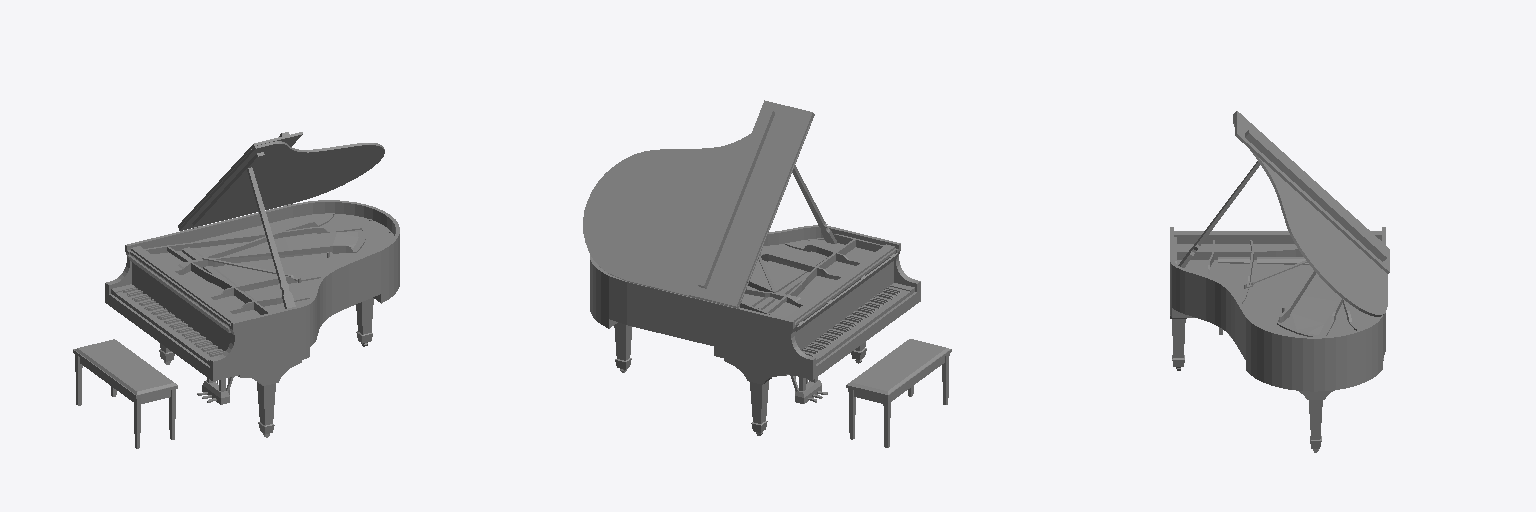
Rendered from piano.obj.
The picture shows the model from 3 angles: view 1: azimuth 30°, elevation 25°; view 2: azimuth 150°, elevation 25°; view 3: azimuth 270°, elevation 25°; orthographic projection.
Parts seen in each view (by area): view 1: 1, 0; view 2: 1, 0; view 3: 1.
Boxes of the visible parts, box(x1,y1,x2,y2) form: 1: box(73, 132, 399, 448); 0: box(84, 339, 173, 391); 1: box(583, 100, 951, 447); 0: box(852, 339, 945, 390); 1: box(1170, 111, 1389, 452).
Bounding box in the file's own units: 2.5 × 2.11 × 1.57.